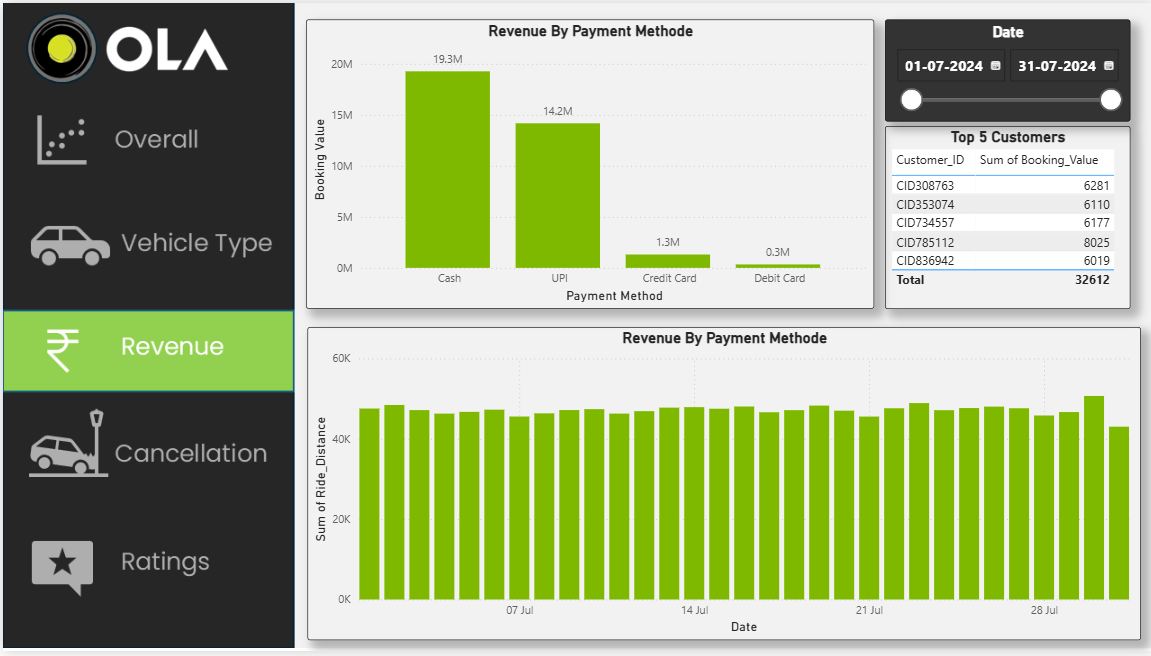

The dashboard page shown, as its layout file describes it:
{"tool":"powerbi","page":{"name":"Revenue","canvas":[1280,720],"ordinal":2},"visuals":[{"type":"actionButton","box":[0,444.2,322.9,91.4],"z":0},{"type":"actionButton","box":[0,444.2,322.9,91.4],"z":1000},{"type":"actionButton","box":[0,110.3,322.9,91.4],"z":2000},{"type":"actionButton","box":[0,222.1,322.9,91.4],"z":3000},{"type":"actionButton","box":[0,579.6,322.9,91.4],"z":4000},{"type":"columnChart","title":"Revenue By Payment Methode","fields":{"Y":["Sum(ola bookings.Booking_Value)"],"Category":["ola bookings.Payment_Method"]},"box":[337.1,18.9,631.6,321.3],"z":5000},{"type":"columnChart","title":"Revenue By Payment Methode","fields":{"Y":["Sum(ola bookings.Ride_Distance)"],"Category":["ola bookings.Date"]},"box":[338.6,360.7,926.1,348.1],"z":6000},{"type":"slicer","title":"Date","fields":{"Values":["ola bookings.Date"]},"box":[979.7,18.9,272.5,113.4],"z":7000},{"type":"tableEx","title":"Top 5 Customers","fields":{"Values":["ola bookings.Customer_ID","Sum(ola bookings.Booking_Value)"]},"box":[979.7,137,272.5,203.2],"z":8000}]}

Visuals, with their boxes in screenshot pixels (x1, y1, x2, y2), scaled from the page's 1280x720 canvas onto the 1151x656 screenshot:
actionButton: x1=0, y1=405, x2=290, y2=488
actionButton: x1=0, y1=405, x2=290, y2=488
actionButton: x1=0, y1=100, x2=290, y2=184
actionButton: x1=0, y1=202, x2=290, y2=286
actionButton: x1=0, y1=528, x2=290, y2=611
"Revenue By Payment Methode" columnChart: x1=303, y1=17, x2=871, y2=310
"Revenue By Payment Methode" columnChart: x1=304, y1=329, x2=1137, y2=646
"Date" slicer: x1=881, y1=17, x2=1126, y2=121
"Top 5 Customers" tableEx: x1=881, y1=125, x2=1126, y2=310
